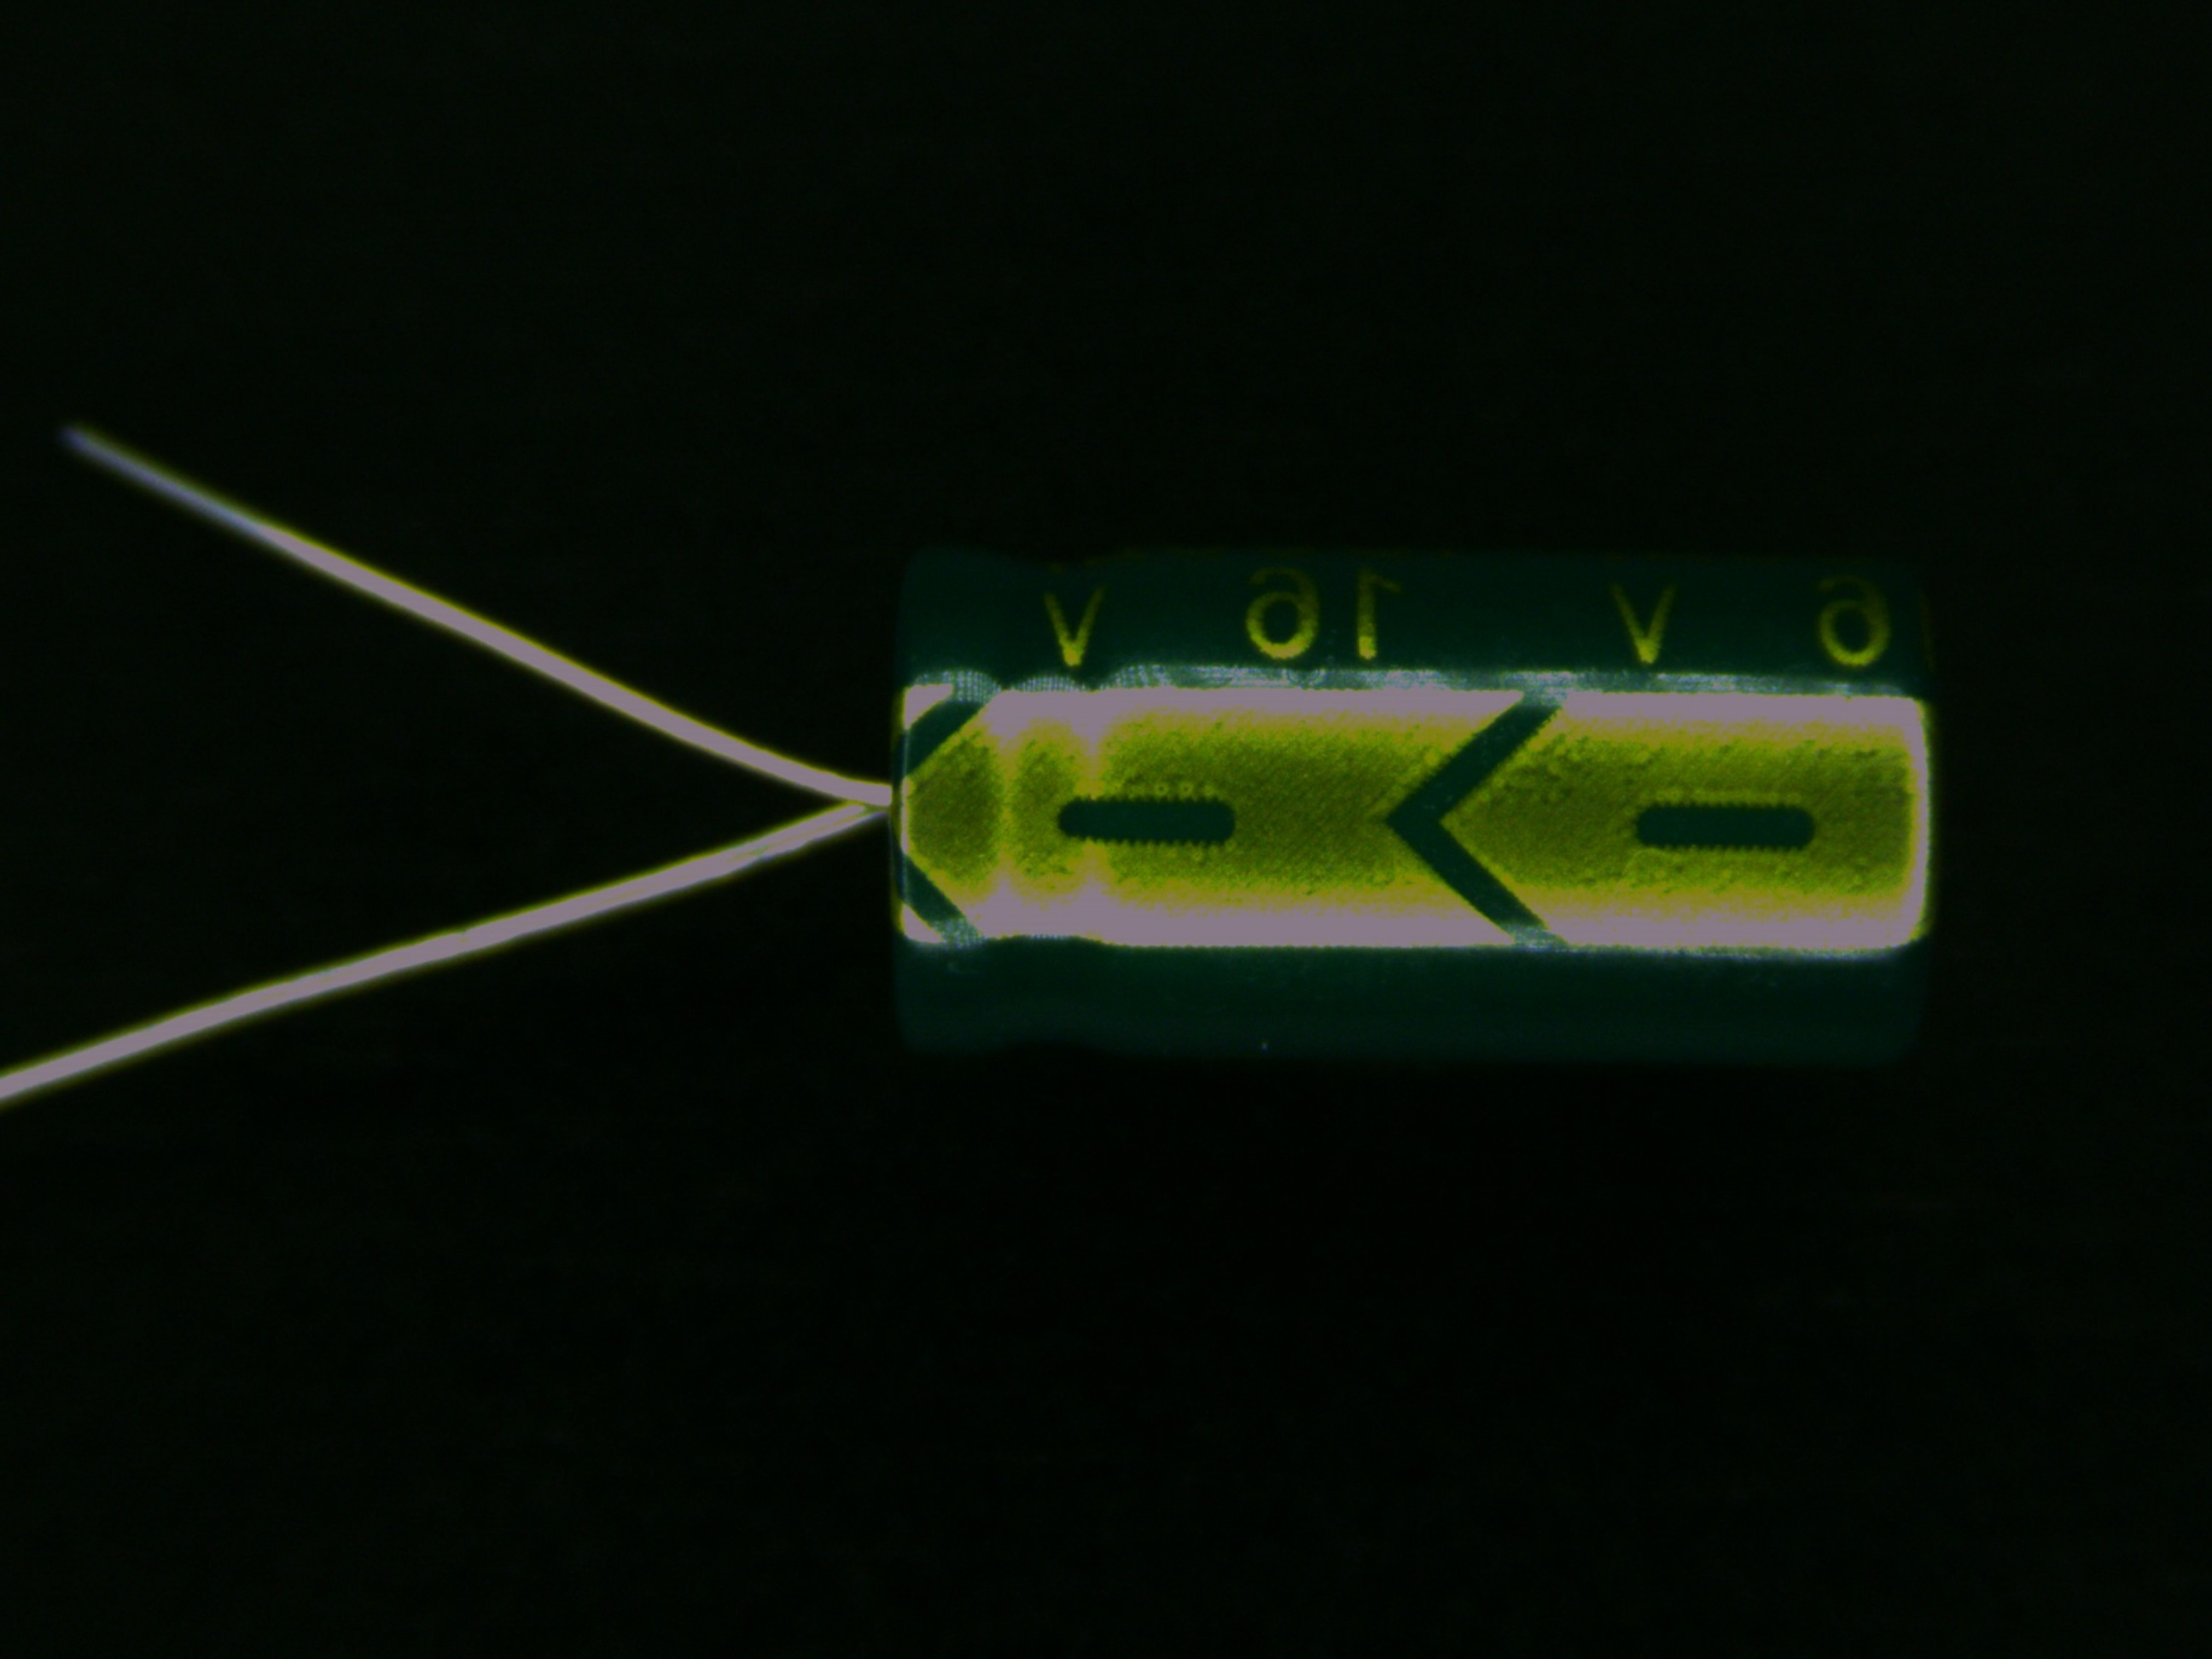c1: (608, 537, 1939, 1072)
